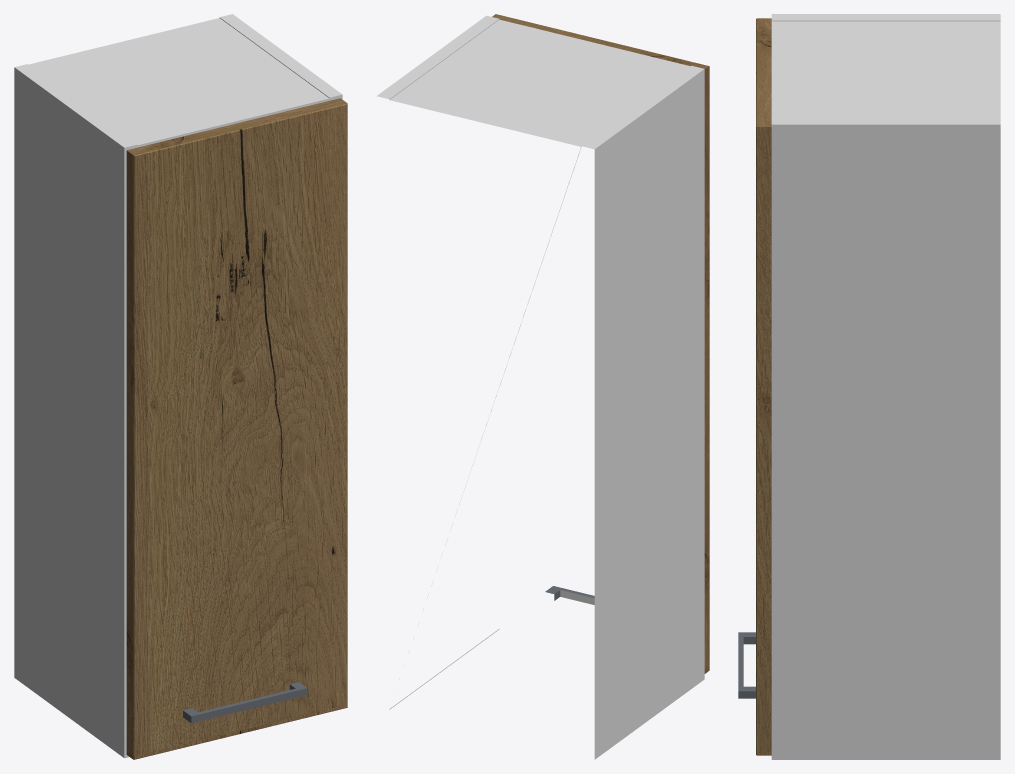
The model's file is gornji_30cm.glb.
3 renders of one model, left to right at view 1: azimuth 30°, elevation 25°; view 2: azimuth 150°, elevation 25°; view 3: azimuth 270°, elevation 25°, orthographic. The views are drawn at different scales.
Parts seen in each view (by area): view 1: Model; view 2: Model; view 3: Model.
Boxes of the visible parts, bbox=[...] form: Model: bbox=[14, 14, 347, 759]; Model: bbox=[376, 14, 709, 759]; Model: bbox=[738, 14, 1000, 759].
Size of the model in its own units: 300 by 802 by 300.
Materials: 6 (1 with a texture image).
